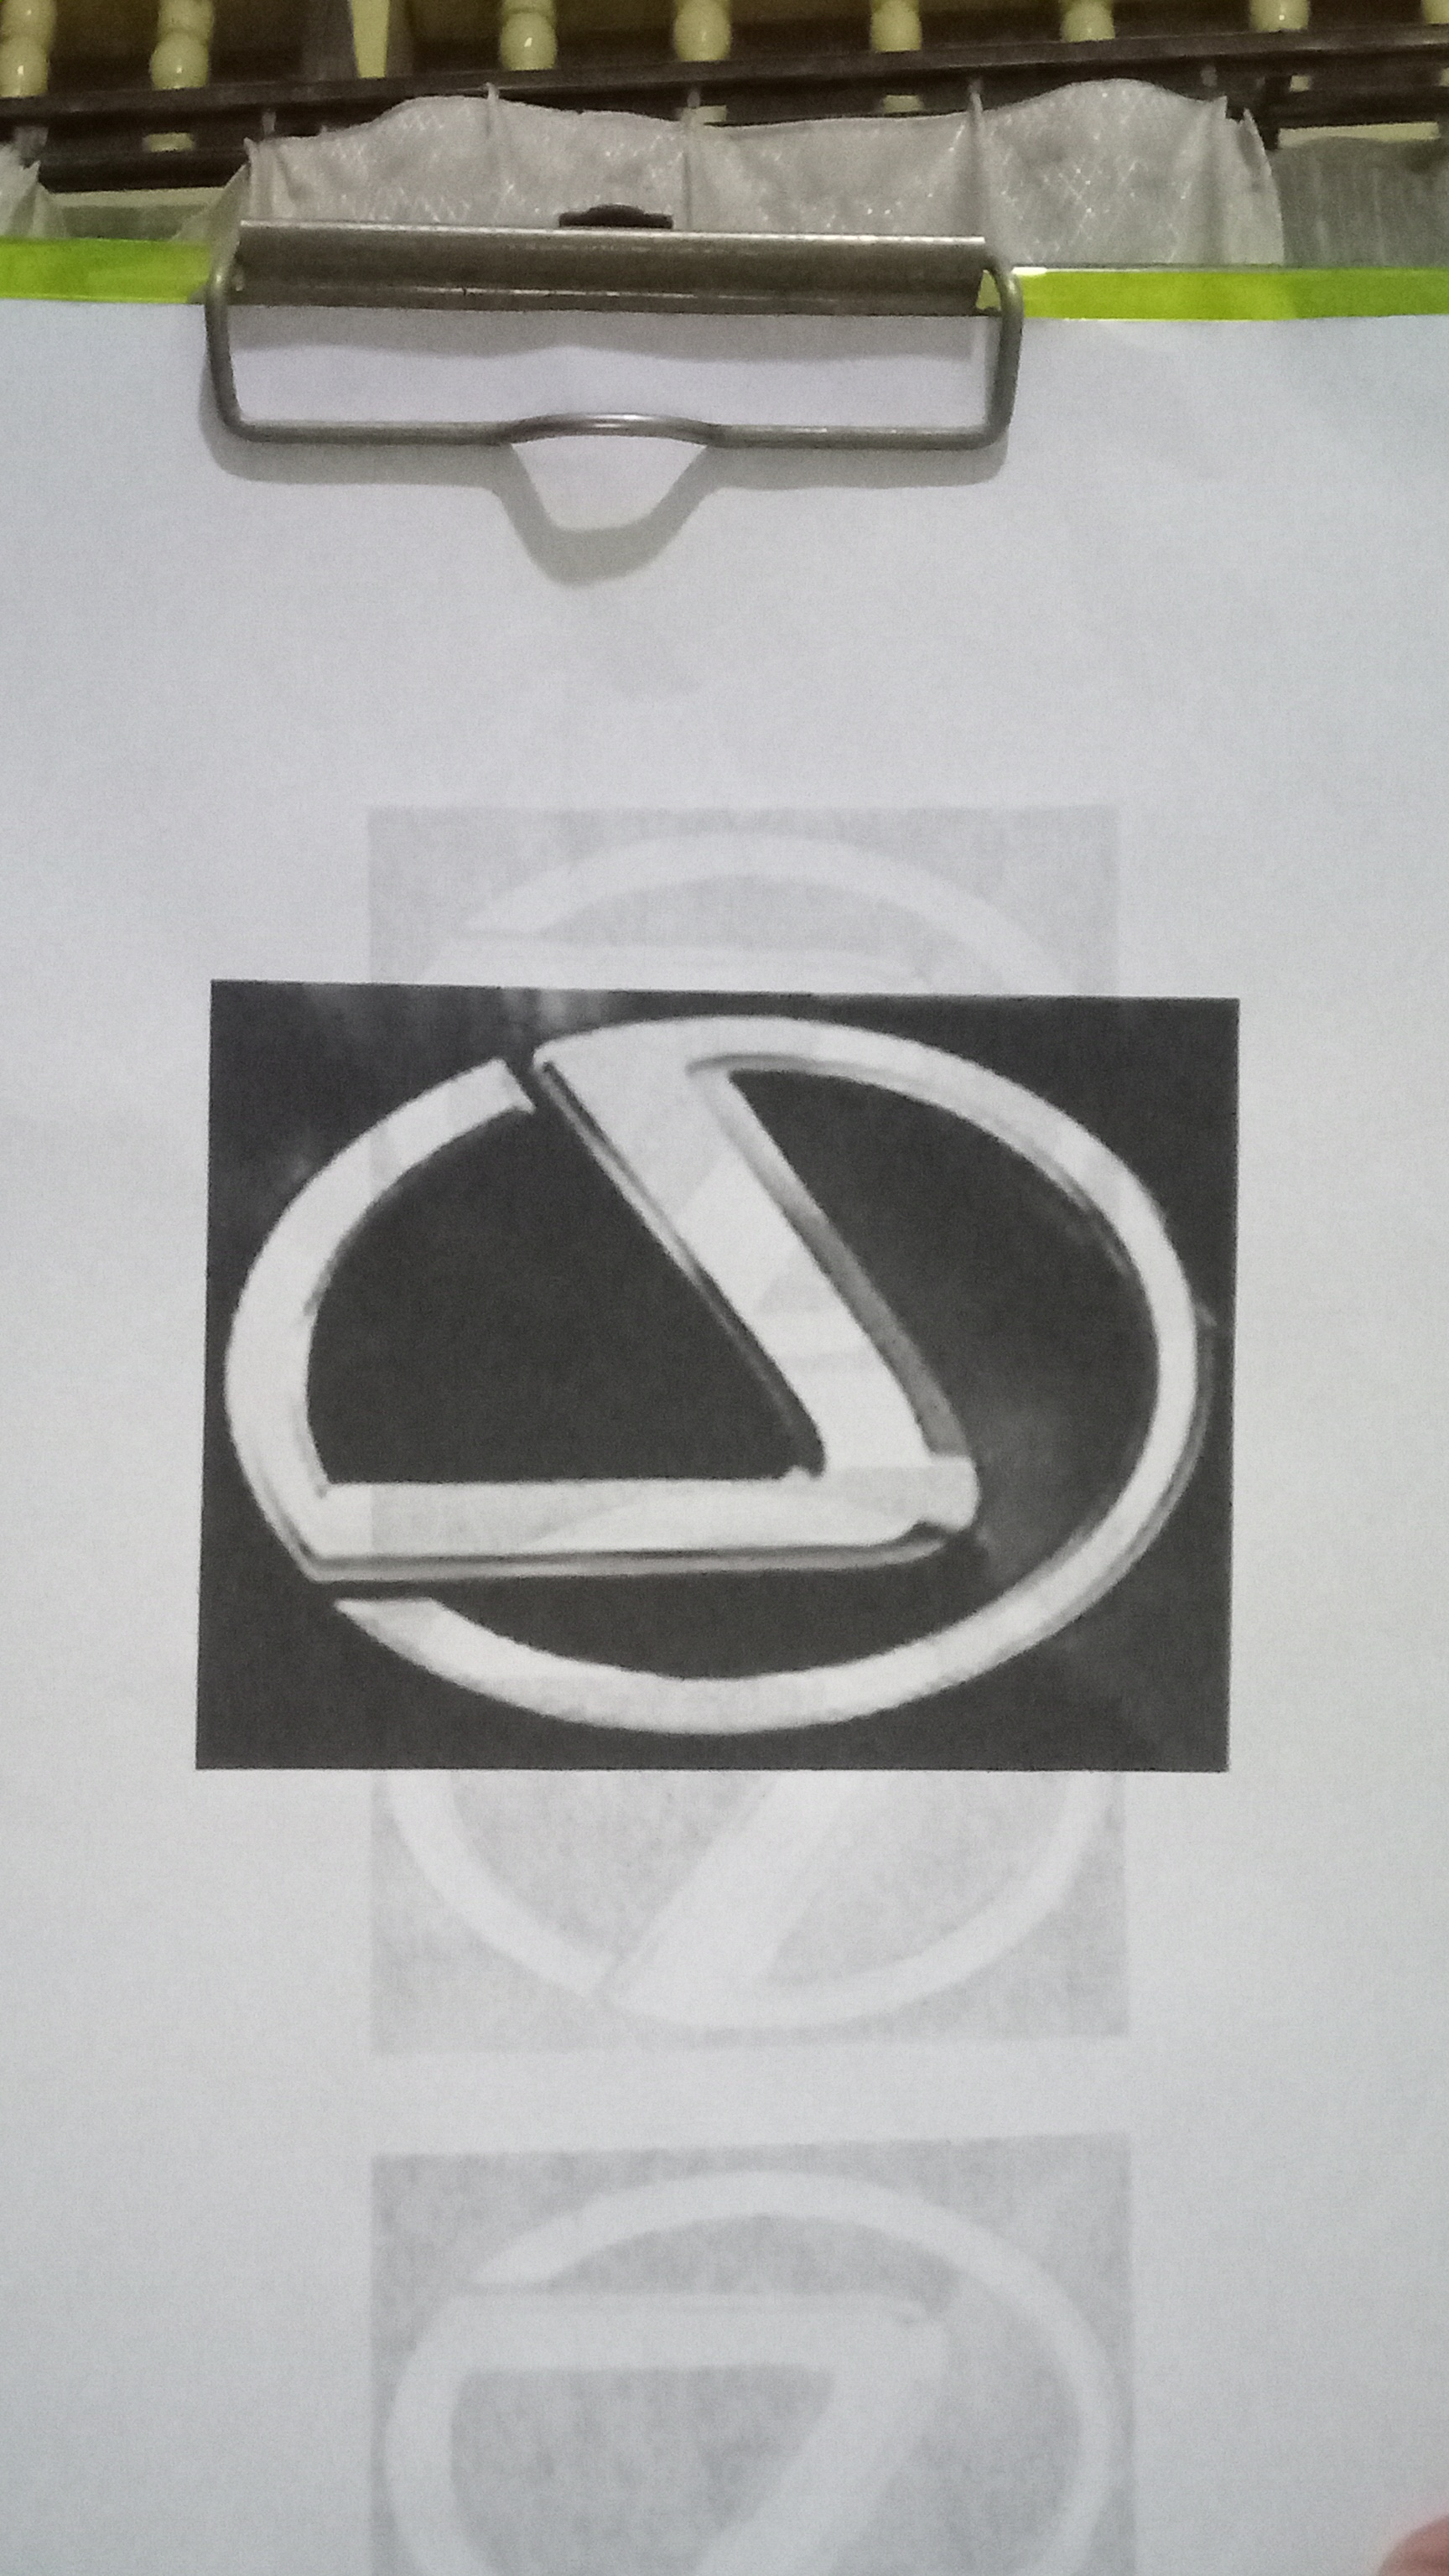Lexus: (207, 998, 1238, 1767)
